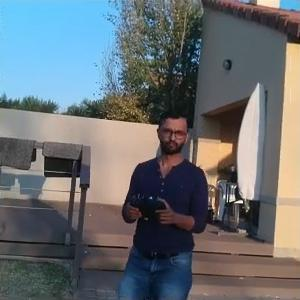follow: (112, 103, 208, 298)
